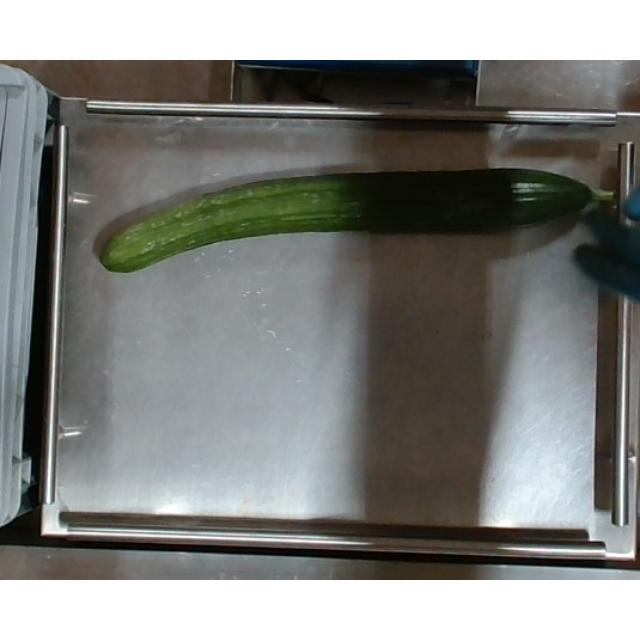cucumber: (86, 159, 598, 279)
